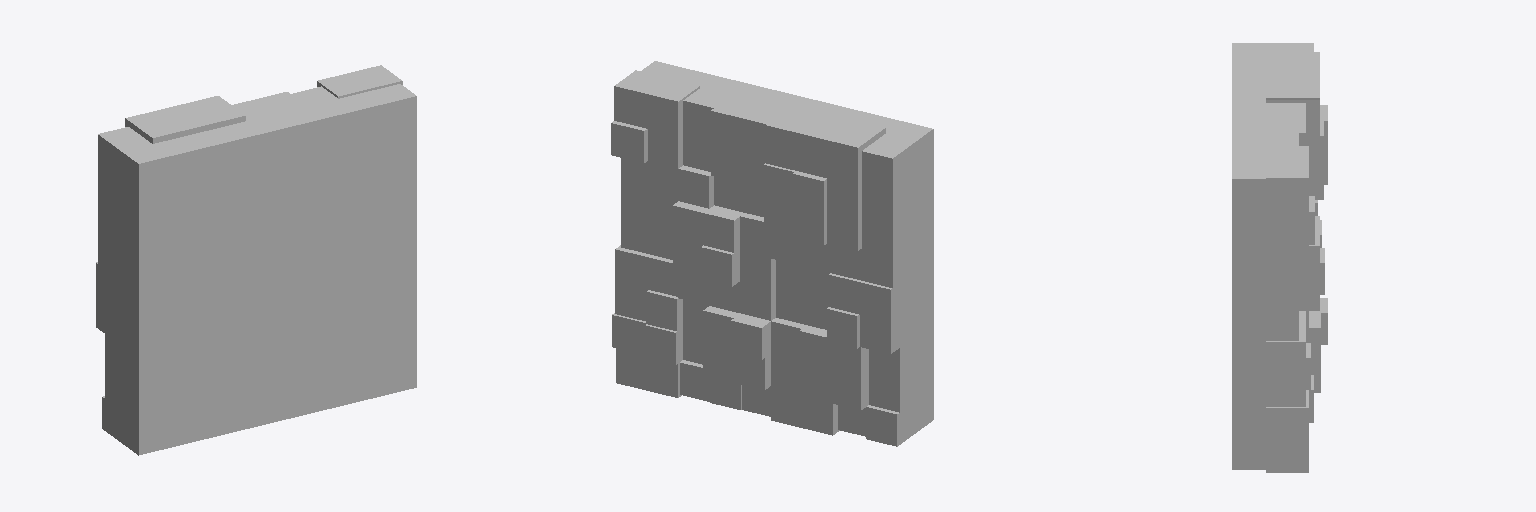
File: Tyle_New.obj
The picture shows the model from 3 angles: view 1: azimuth 30°, elevation 25°; view 2: azimuth 150°, elevation 25°; view 3: azimuth 270°, elevation 25°; orthographic projection.
Parts seen in each view (by area): view 1: Cube.003_Cube; view 2: Cube.003_Cube; view 3: Cube.003_Cube.
Part boxes in pixels (bbox=[...]): Cube.003_Cube: bbox=[96, 65, 416, 455]; Cube.003_Cube: bbox=[611, 61, 933, 446]; Cube.003_Cube: bbox=[1232, 43, 1327, 472].
Bounding box in the file's own units: 1.08 × 1.09 × 0.317.